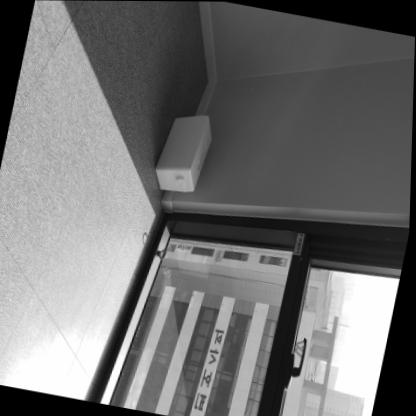DDL: (152, 108, 215, 192)
